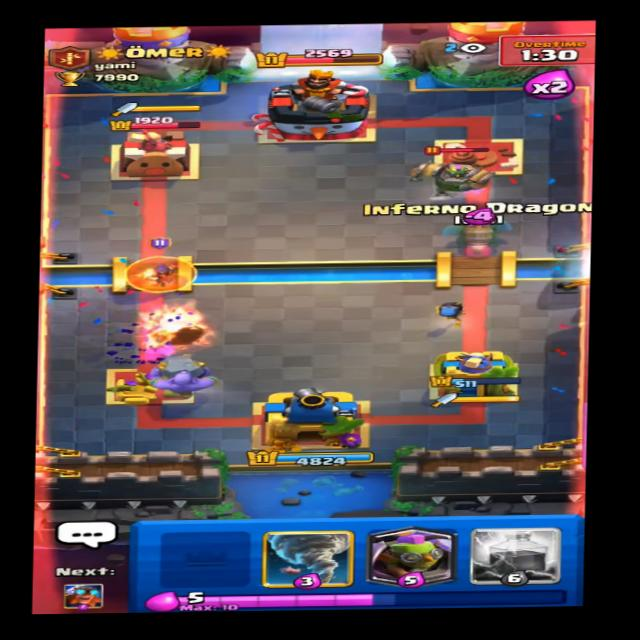evo-wizard: (122, 234, 204, 293)
goblin-machine: (404, 139, 502, 206)
